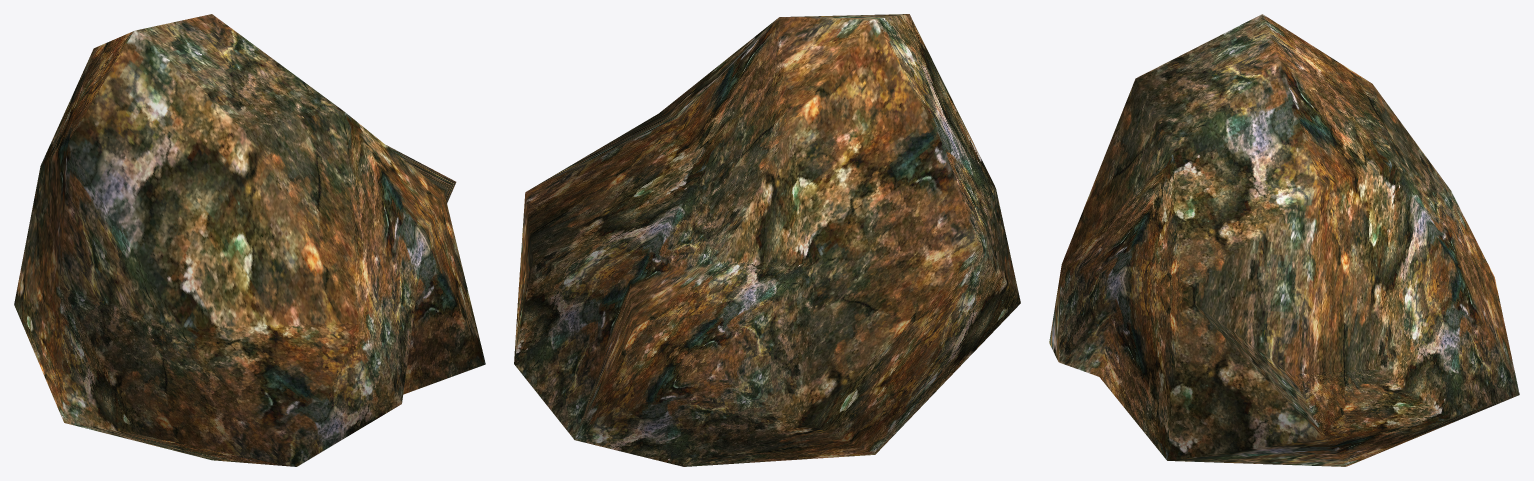
Rendered from c_stone11.glb.
3 views of the same model, side by side, from view 1: azimuth 30°, elevation 25°; view 2: azimuth 150°, elevation 25°; view 3: azimuth 270°, elevation 25° (orthographic). The views are drawn at different scales.
Visible parts, largest first — view 1: c_stone11; view 2: c_stone11; view 3: c_stone11.
Part boxes in pixels (left/top/right/bottom): c_stone11: left=14, top=14, right=485, bottom=466; c_stone11: left=514, top=14, right=1020, bottom=466; c_stone11: left=1049, top=14, right=1519, bottom=466.
Bounding box in the file's own units: 0.814 × 0.757 × 0.8839.
Materials: 1 (1 with a texture image).
